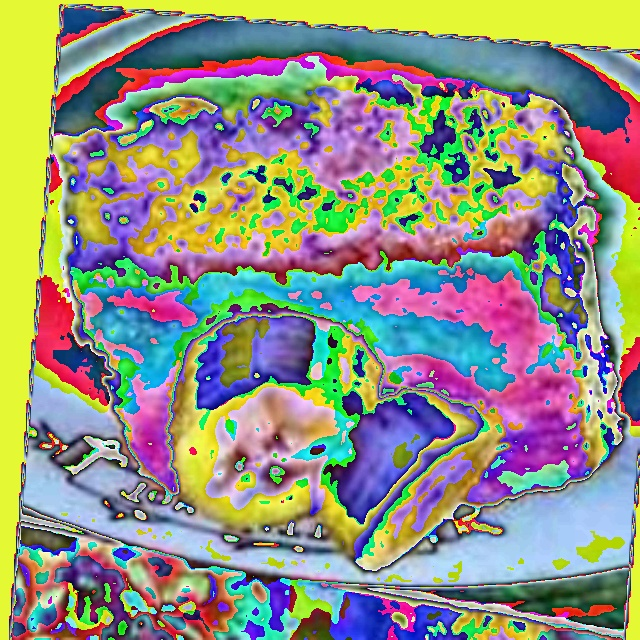background: (53, 78, 624, 577)
